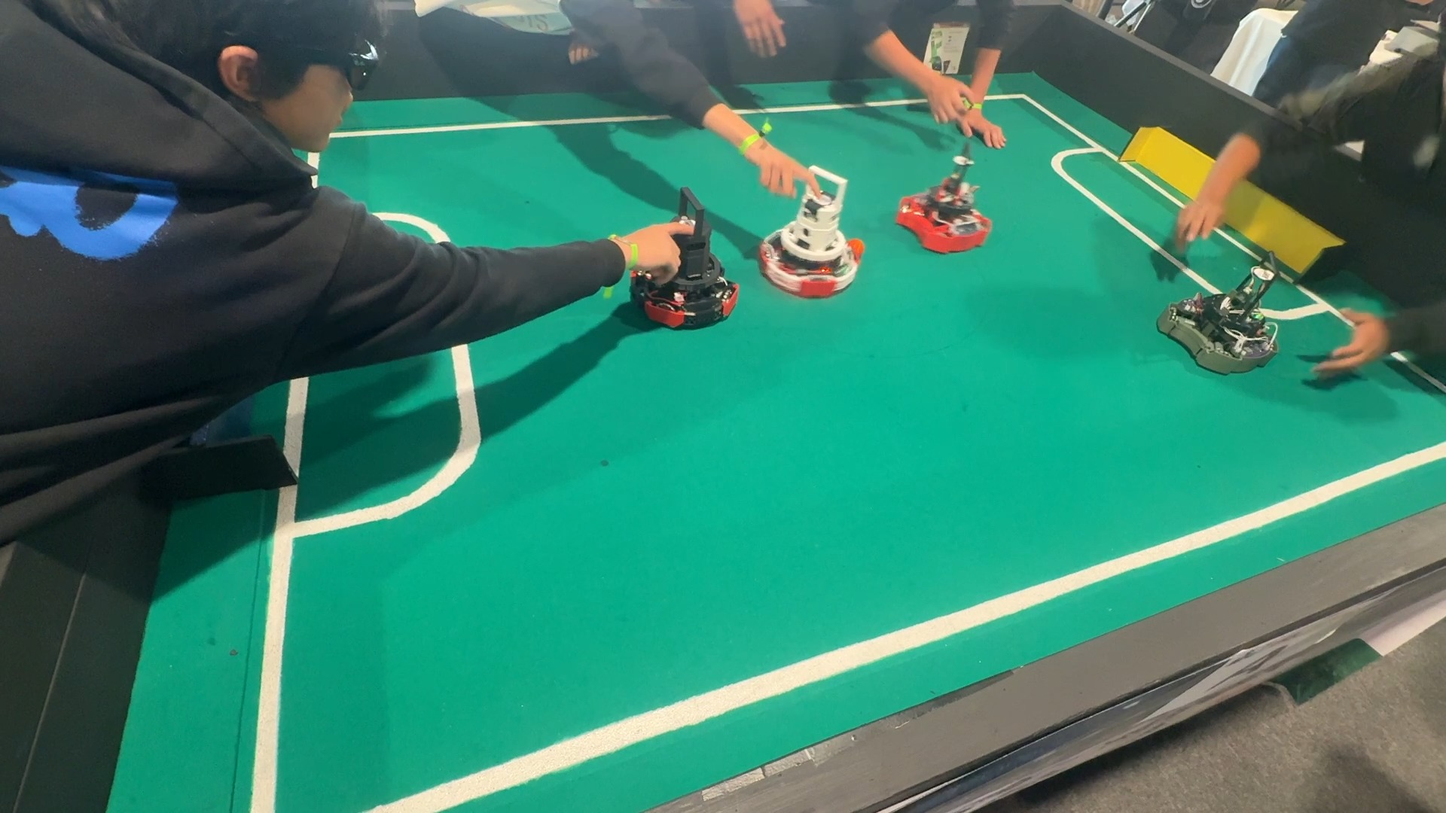Robot: (603, 175, 744, 346), (1151, 242, 1295, 381), (747, 162, 868, 308), (900, 155, 998, 254)
